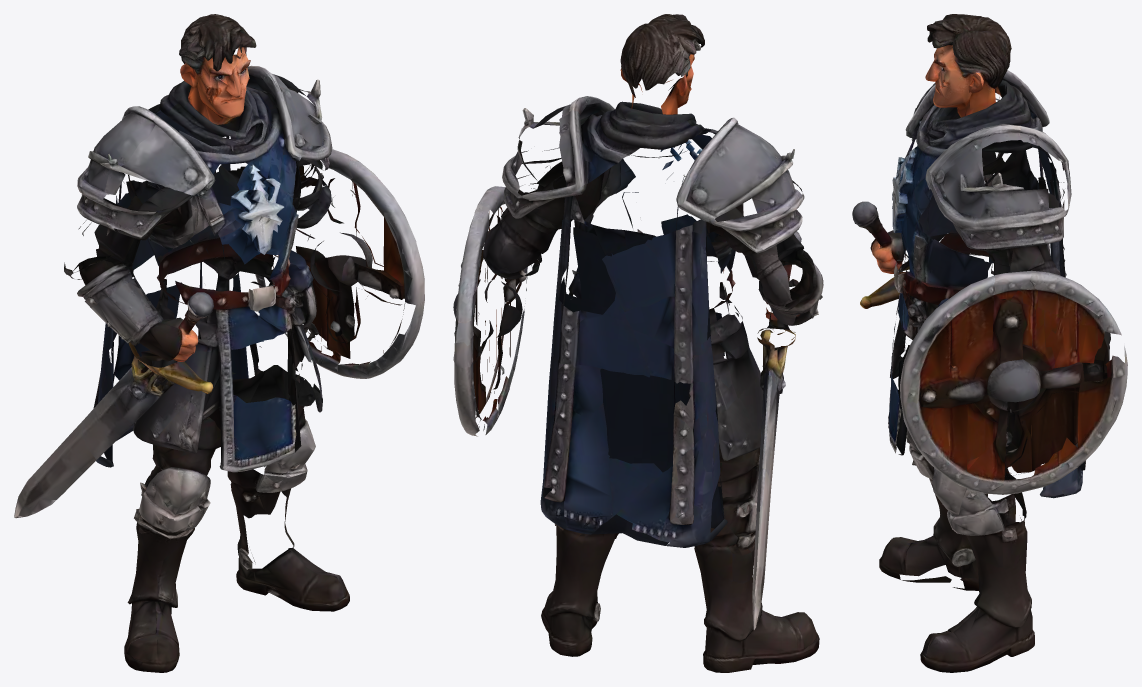
File: brann154.glb
The picture shows the model from 3 angles, left to right: view 1: azimuth 30°, elevation 25°; view 2: azimuth 150°, elevation 25°; view 3: azimuth 270°, elevation 25°; orthographic projection. The views are drawn at different scales.
Parts seen in each view (by area): view 1: tripo_node_aebe52bd-1ee9-4205-a30e-1fcde250c133; view 2: tripo_node_aebe52bd-1ee9-4205-a30e-1fcde250c133; view 3: tripo_node_aebe52bd-1ee9-4205-a30e-1fcde250c133.
Part boxes in pixels (left/top/right/bottom): tripo_node_aebe52bd-1ee9-4205-a30e-1fcde250c133: left=14, top=14, right=424, bottom=672; tripo_node_aebe52bd-1ee9-4205-a30e-1fcde250c133: left=453, top=14, right=823, bottom=672; tripo_node_aebe52bd-1ee9-4205-a30e-1fcde250c133: left=852, top=14, right=1127, bottom=672.
Size of the model in its own units: 0.5525 by 0.9793 by 0.4079.
Materials: 1 (1 with a texture image).
